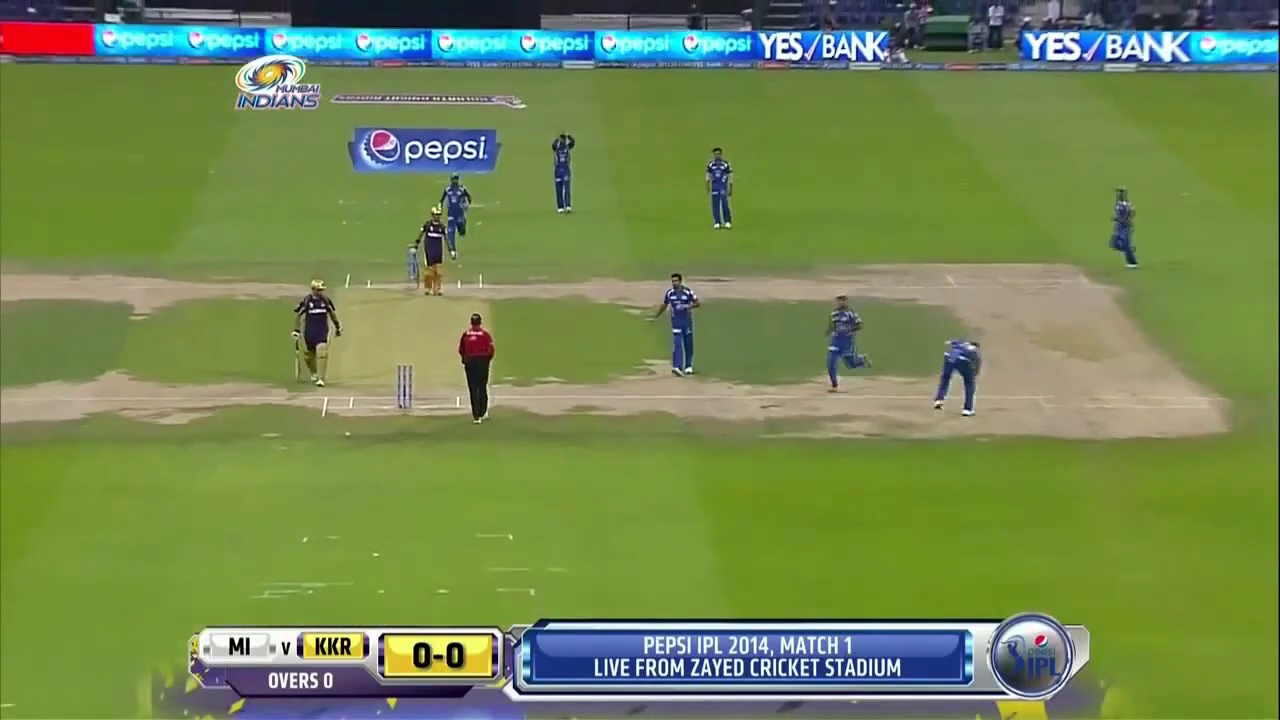bat: (294, 341, 301, 382)
stumps: (395, 363, 414, 410)
